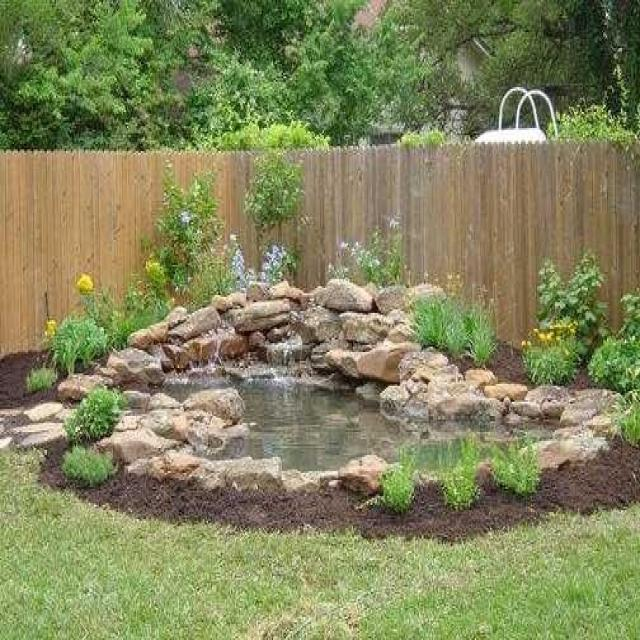Ponds: (59, 280, 628, 494)
